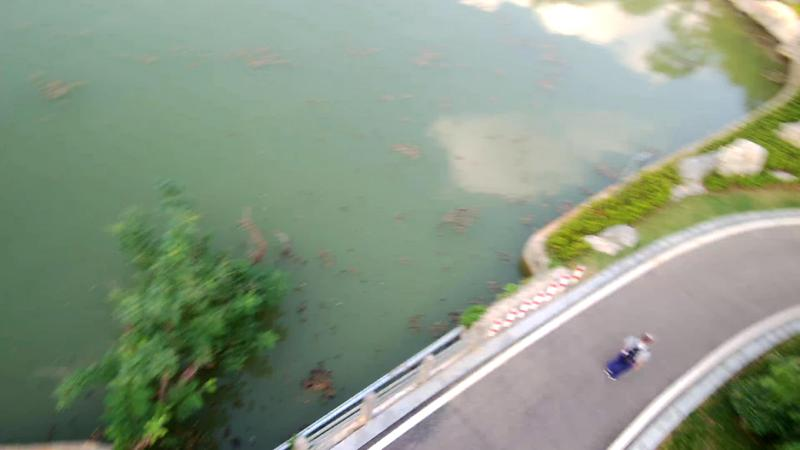passerby: (600, 328, 656, 381)
